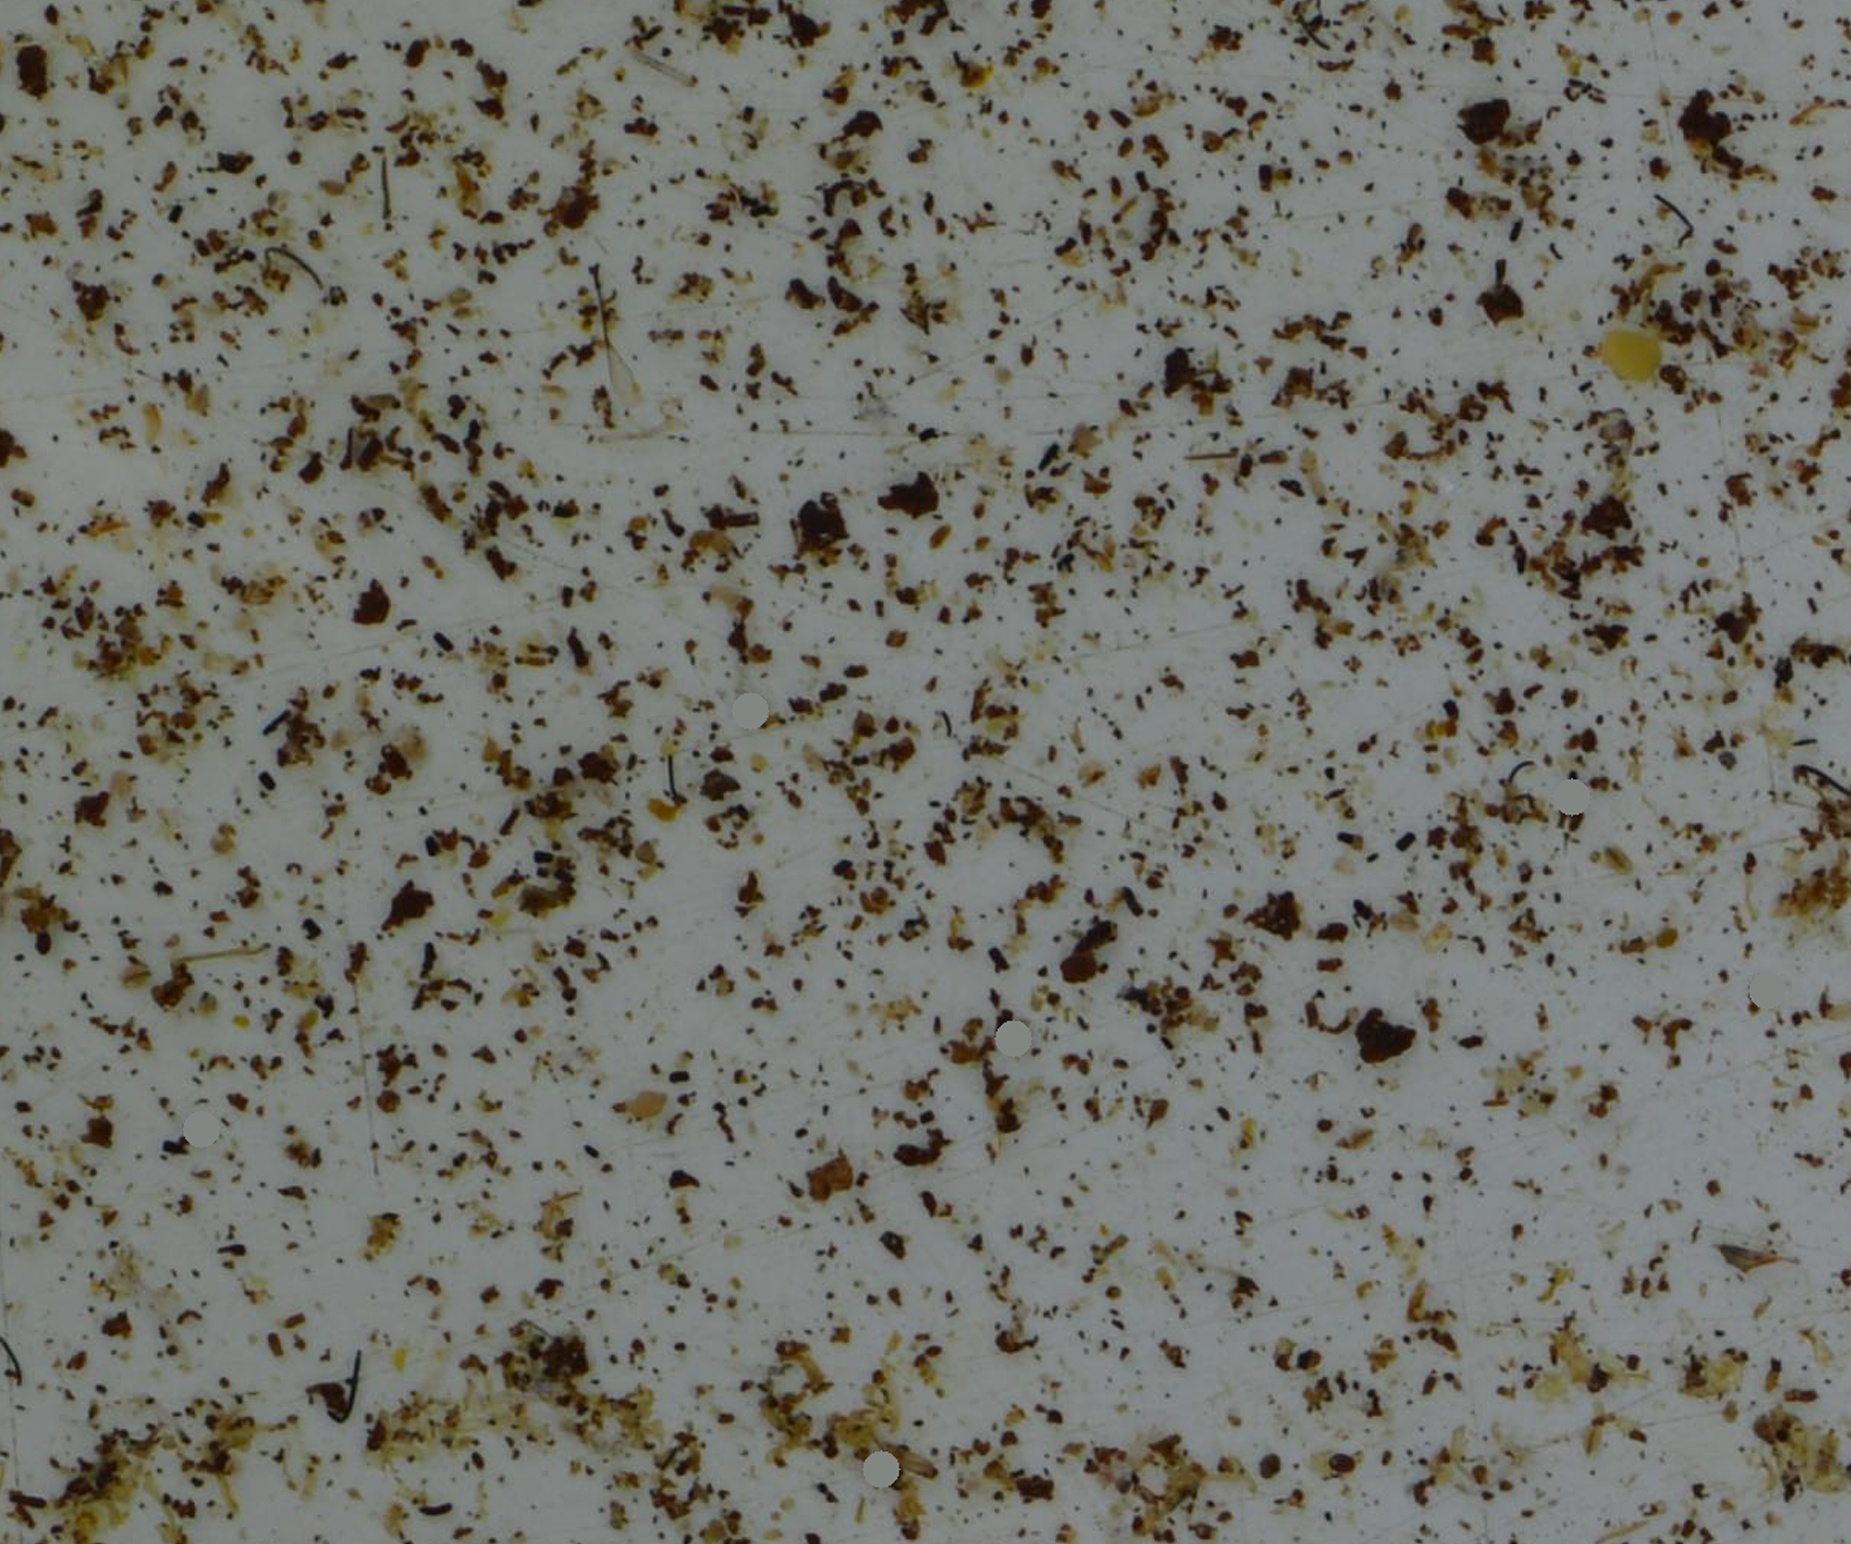Varroa: (1254, 1450, 1285, 1482), (1327, 1444, 1358, 1475), (1656, 361, 1687, 391), (1573, 721, 1600, 750), (28, 926, 55, 955)
